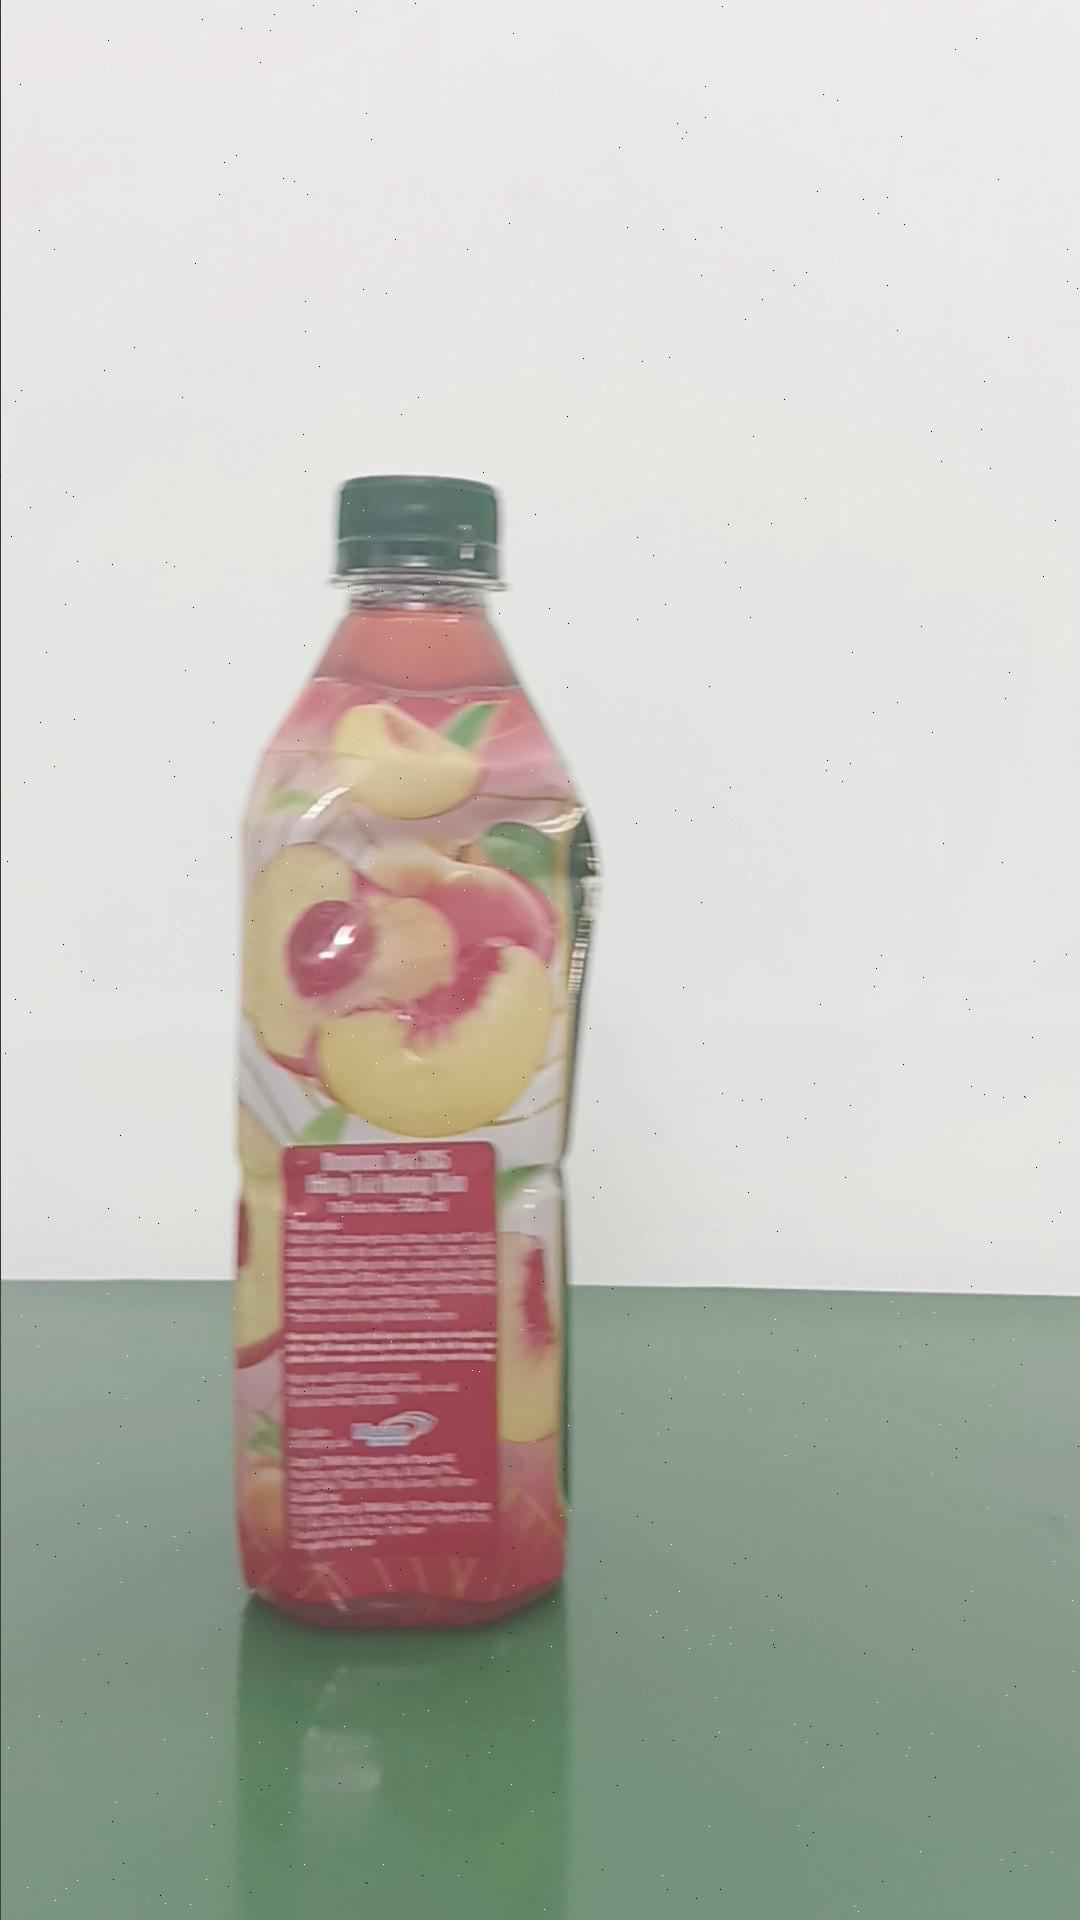loi meo sp: (227, 471, 599, 1630)
